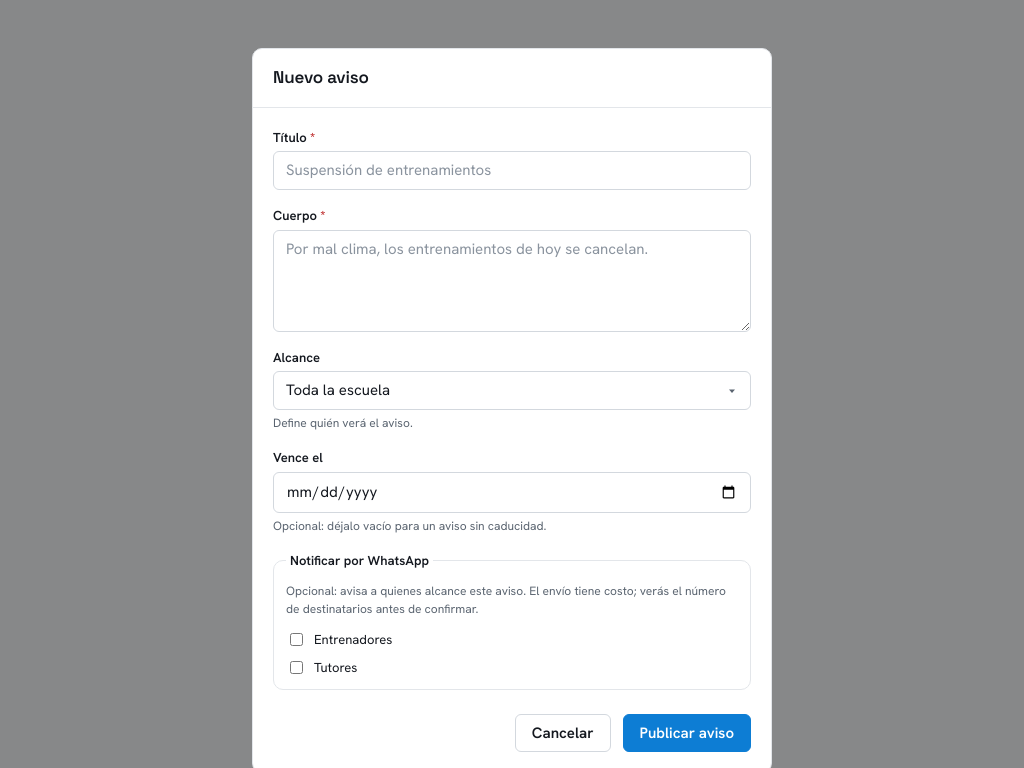
NuevoAviso — notificación por WhatsApp › con grupo marcado: pide preview y muestra el conteo antes de crear
Type "Inscripciones" into the field labelled "Título *" at (512, 170), box [273,151,751,190]
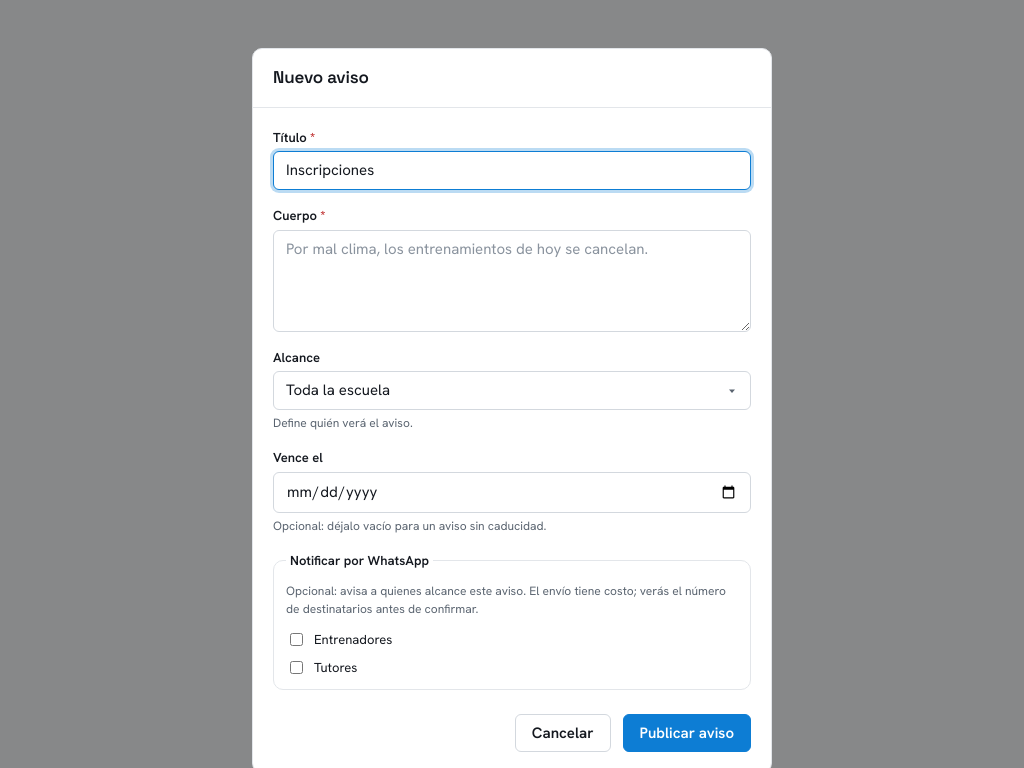
Type "Texto del aviso" into the text box labelled "Cuerpo *" at (512, 280), box [273,230,751,332]
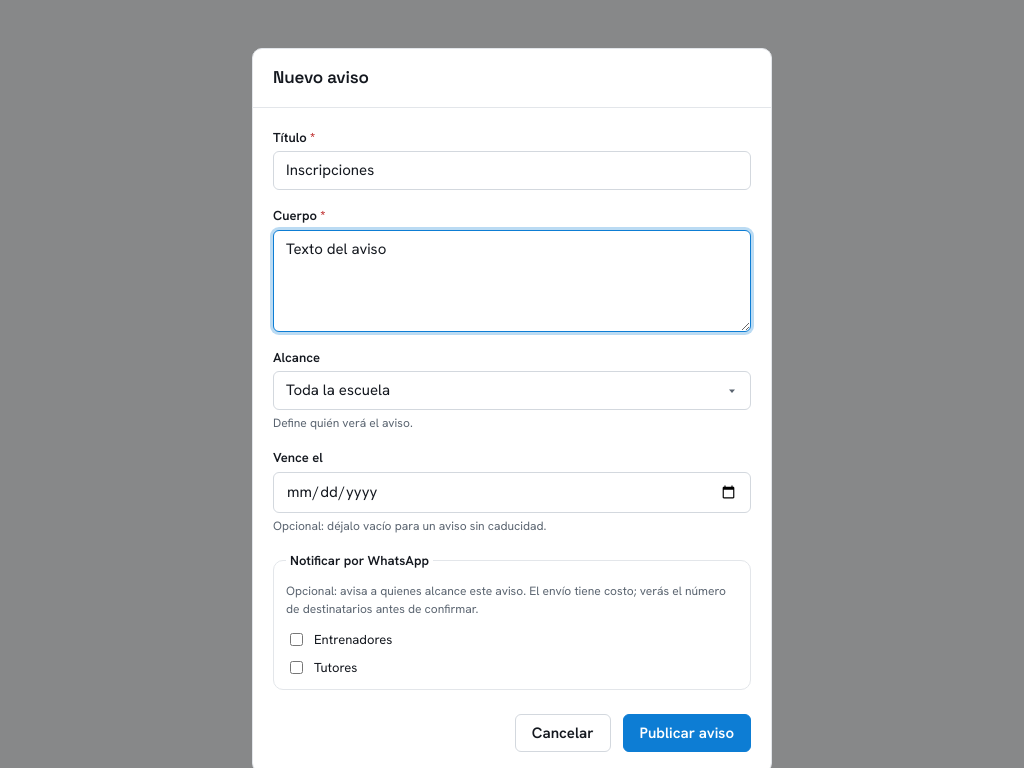
Click the checkbox labelled "Entrenadores" at (296, 640), box [290,633,303,646]
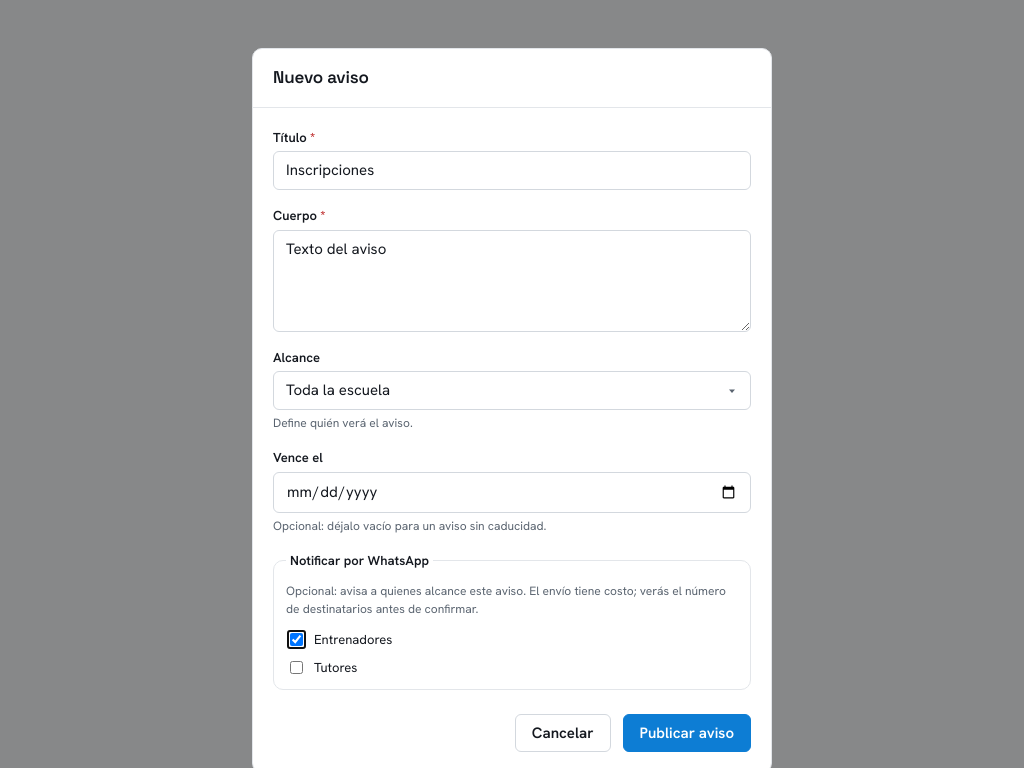
Click the checkbox labelled "Tutores" at (296, 667), box [290,661,303,674]
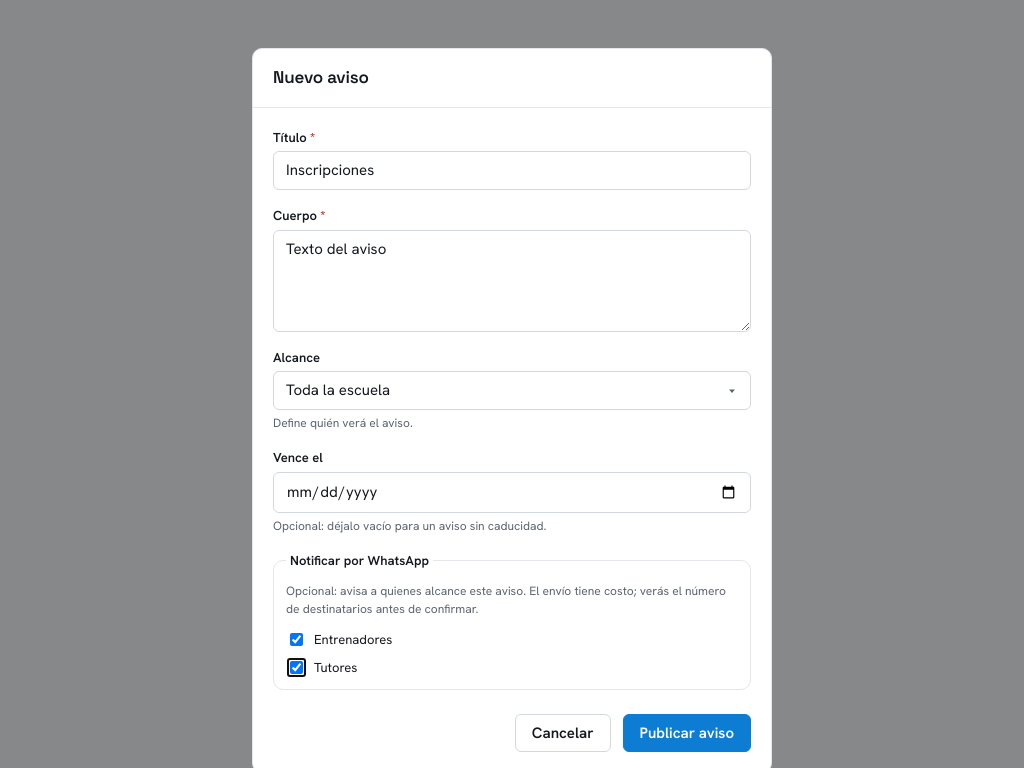
Click the button "Publicar aviso" at (687, 733), box [622,714,751,752]
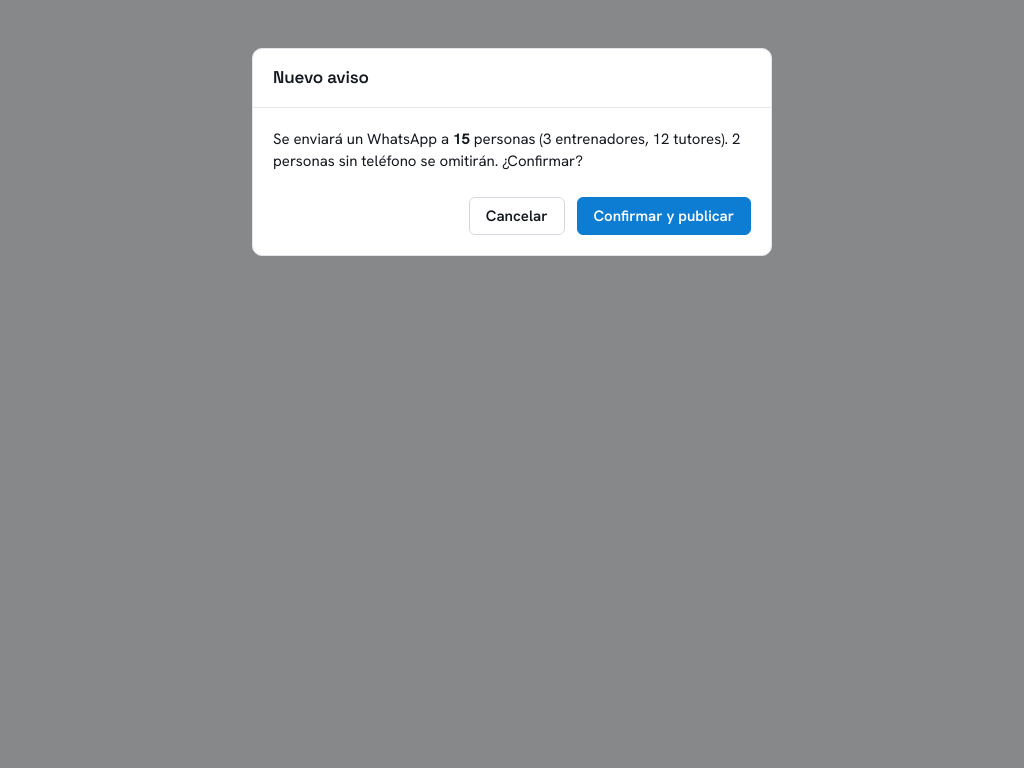
Now the text "15" is shown, box [453,128,470,148]
Now the text "2 personas sin teléfono" is shown, box [273,128,751,172]
